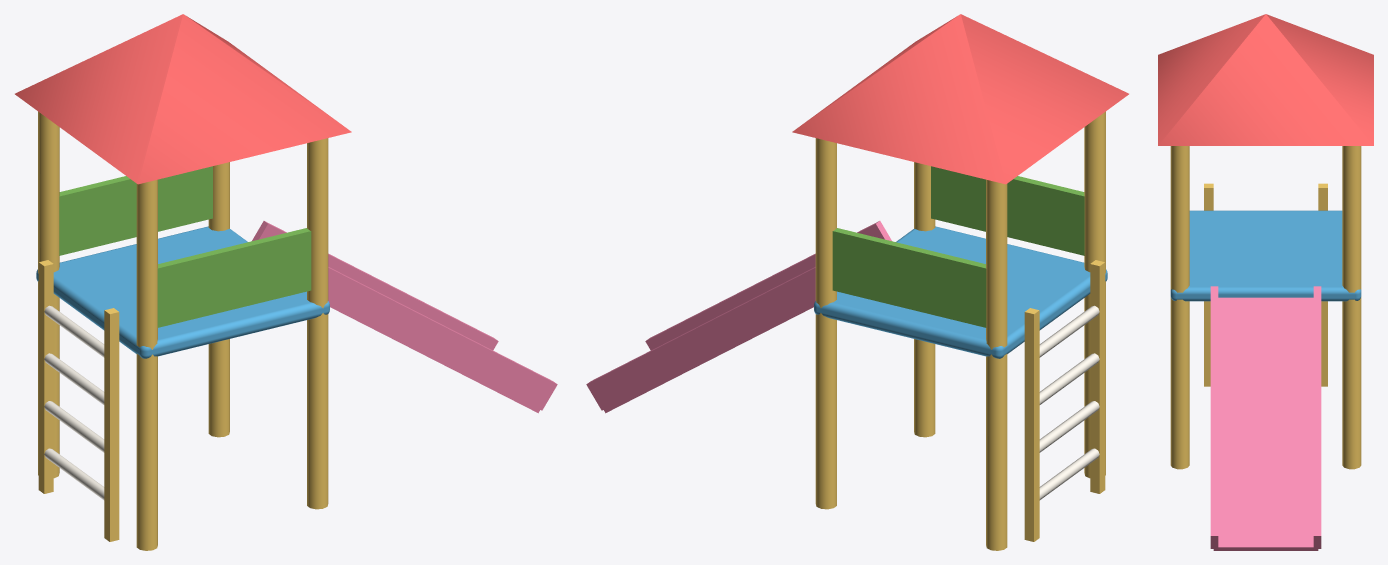
File: kplayset.glb
3 renders of one model, left to right at view 1: azimuth 30°, elevation 25°; view 2: azimuth 150°, elevation 25°; view 3: azimuth 270°, elevation 25°, orthographic. The views are drawn at different scales.
Bounding box in the file's own units: 2.39 × 2.4 × 1.13.
